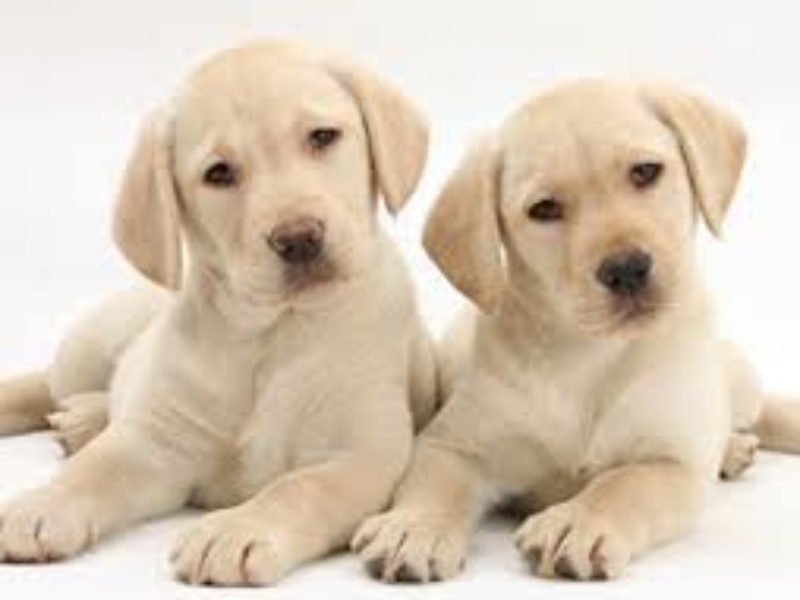dog: (43, 25, 447, 551), (388, 46, 788, 570)
